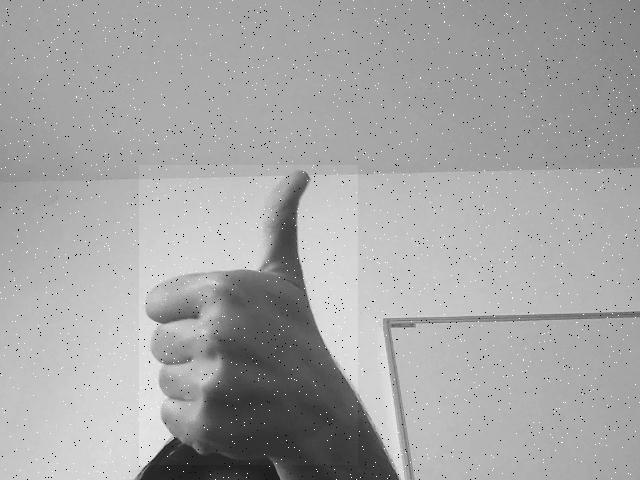good: (139, 165, 358, 465)
